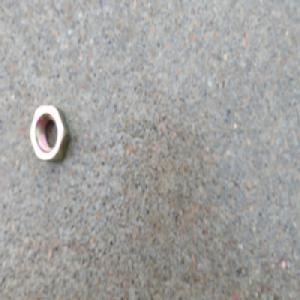Nut: (27, 102, 70, 164)
